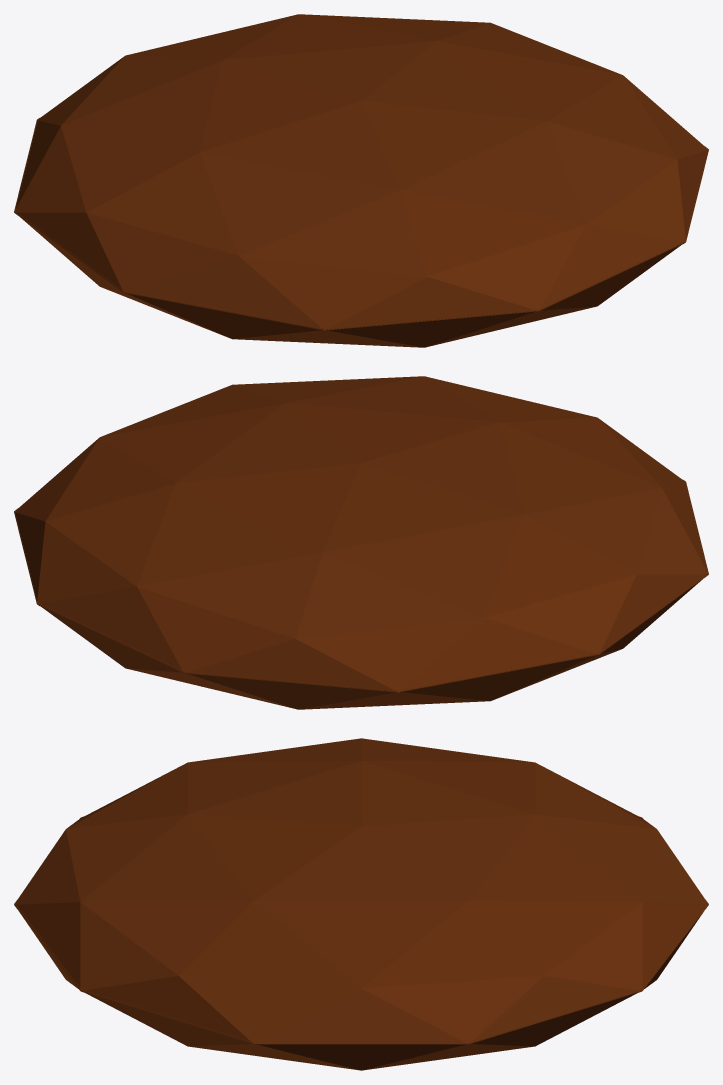
The model's file is steakBaked.glb.
3 renders of one model, top to bottom at view 1: azimuth 30°, elevation 25°; view 2: azimuth 150°, elevation 25°; view 3: azimuth 270°, elevation 25°, orthographic. The views are drawn at different scales.
Parts seen in each view (by area): view 1: bovenkant, onderkant; view 2: bovenkant, onderkant; view 3: bovenkant, onderkant.
Boxes of the visible parts, x1,y1,x2,y2 form: bovenkant: [14, 14, 708, 330]; onderkant: [14, 118, 708, 347]; bovenkant: [14, 376, 708, 692]; onderkant: [14, 480, 708, 709]; bovenkant: [14, 738, 708, 1044]; onderkant: [14, 816, 708, 1070].
Bounding box in the file's own units: 1.24 × 0.323 × 1.3.
